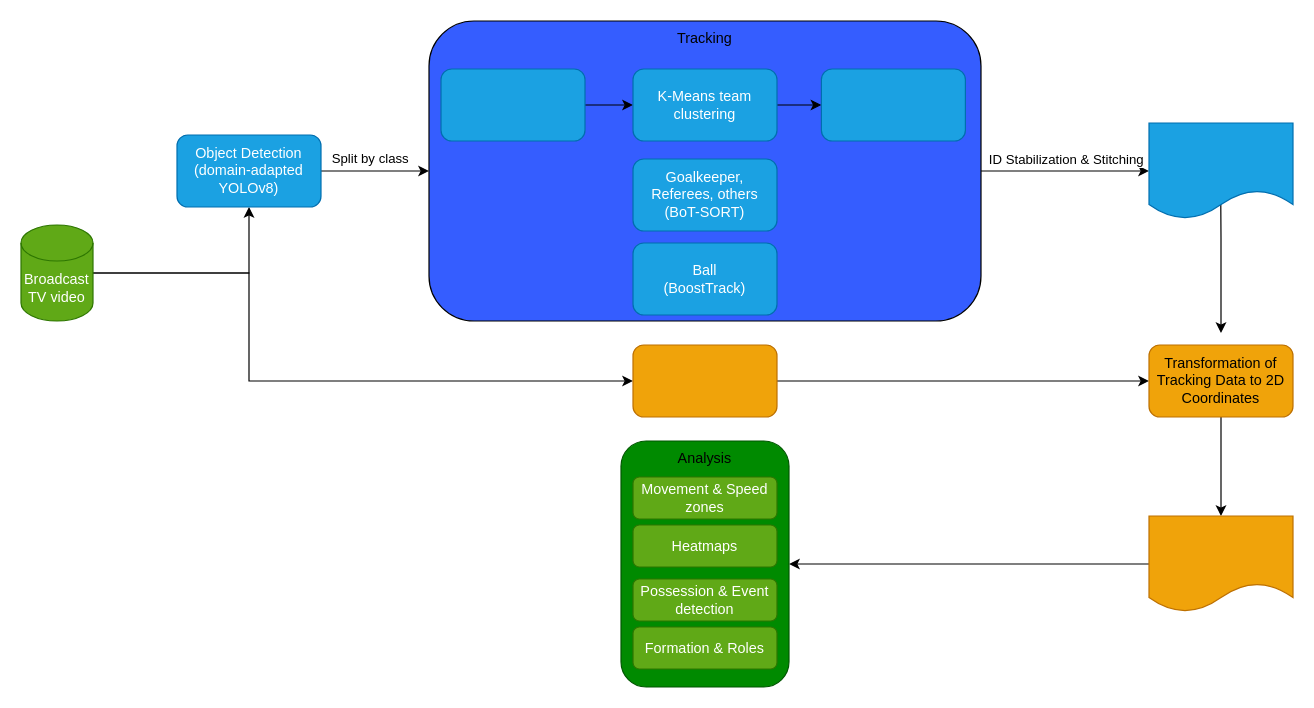
This 1314x708 diagram has some shape labels left out. Here are the shapes that lost their labels. From the top down, the centre of each, then its label:
At point 512,104: "Players (BoT-SORT)".
At point 892,104: "Jersey Number Recognition".
At point 1220,170: "Class-aware Tracking Data".
At point 704,380: "Homography Transformation (PnLCalib)".
At point 1220,563: "Tracking Data transformed to pitch coordinates".
